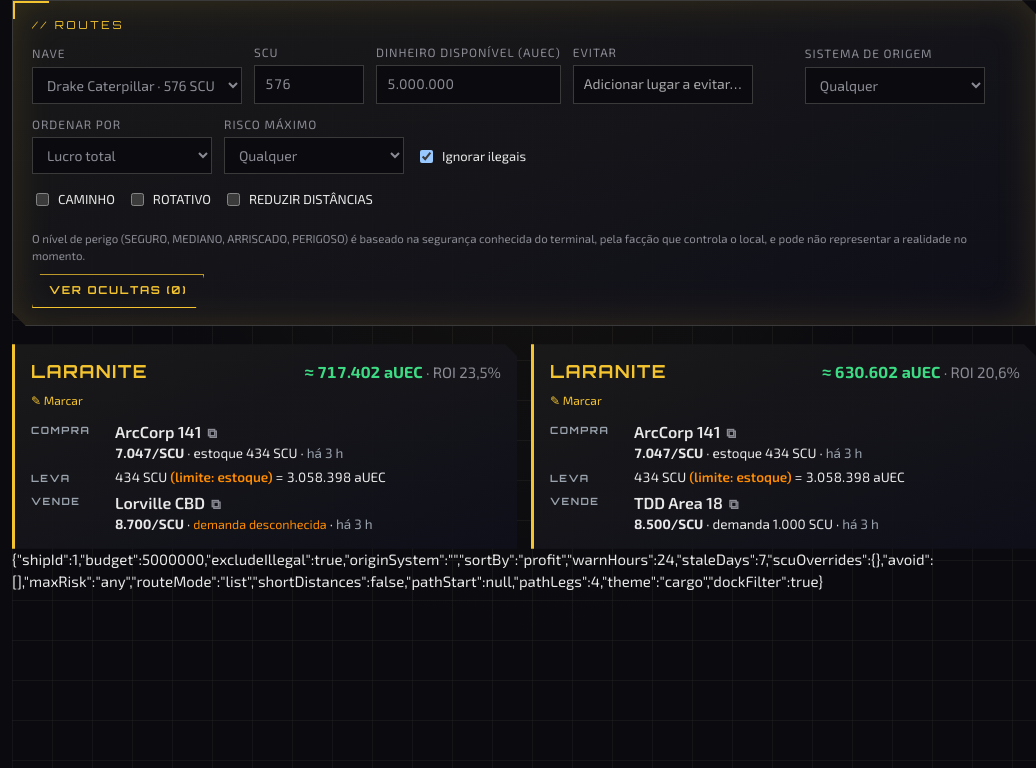
RouteControls › trocar a nave muda as rotas
Expected: the element that starts with "Laranite" shows "434 SCU", x1=115 y1=468 x2=167 y2=484
Select "RSI Galaxy · 64 SCU" in the dropdown labelled "Nave" at [137, 85], box x1=32 y1=67 x2=242 y2=104
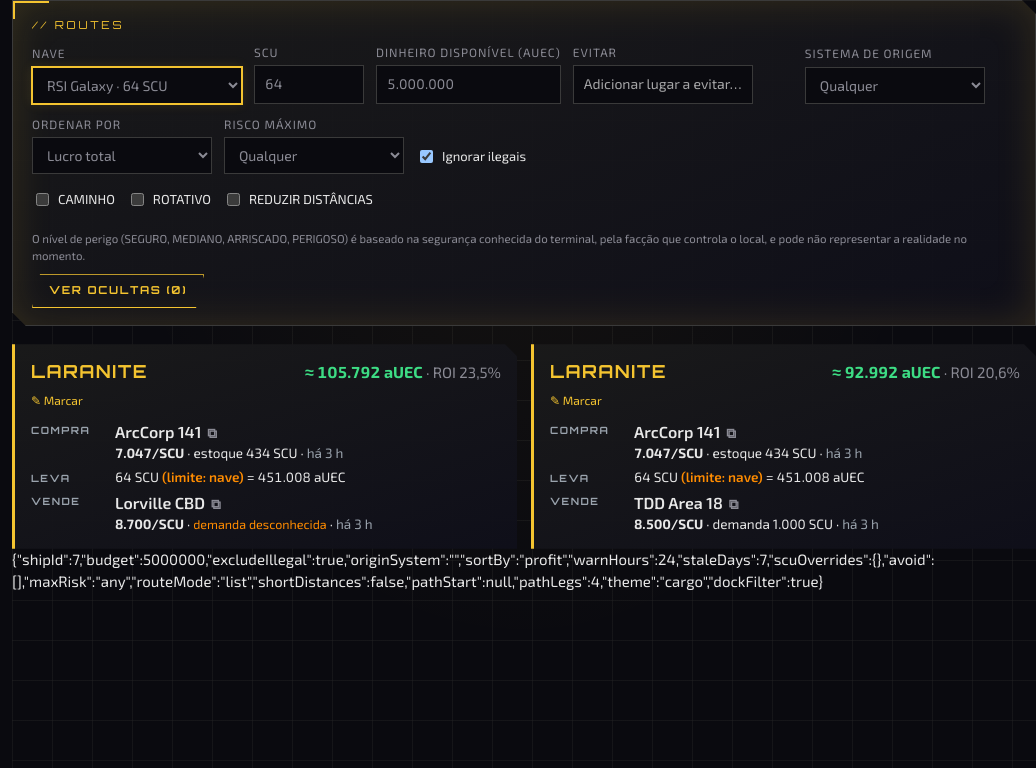
Expected: the element that starts with "Laranite" shows "64 SCU", x1=115 y1=468 x2=159 y2=484
